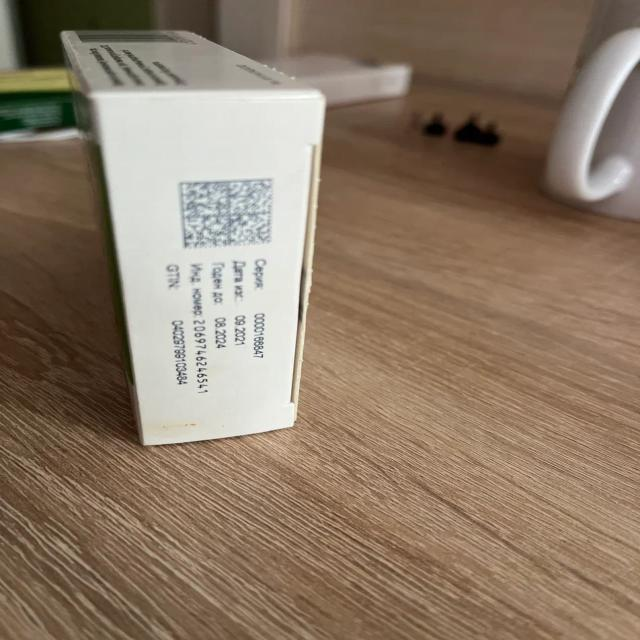datamatrix: (176, 178, 277, 251)
